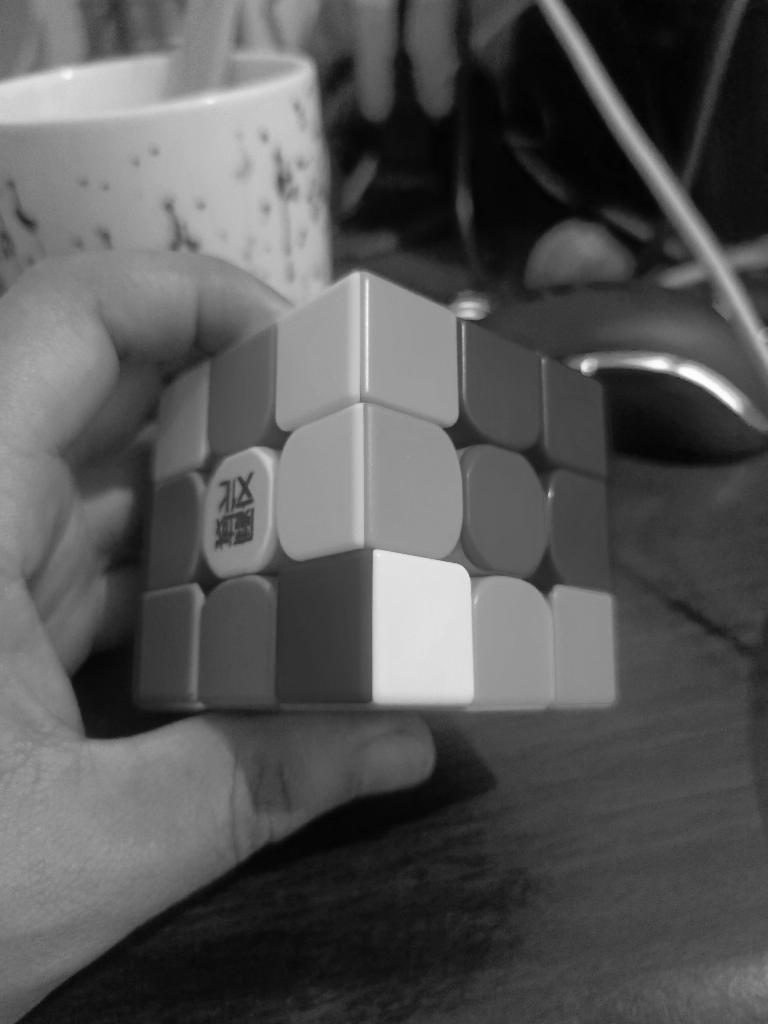rubik: (132, 268, 620, 714)
